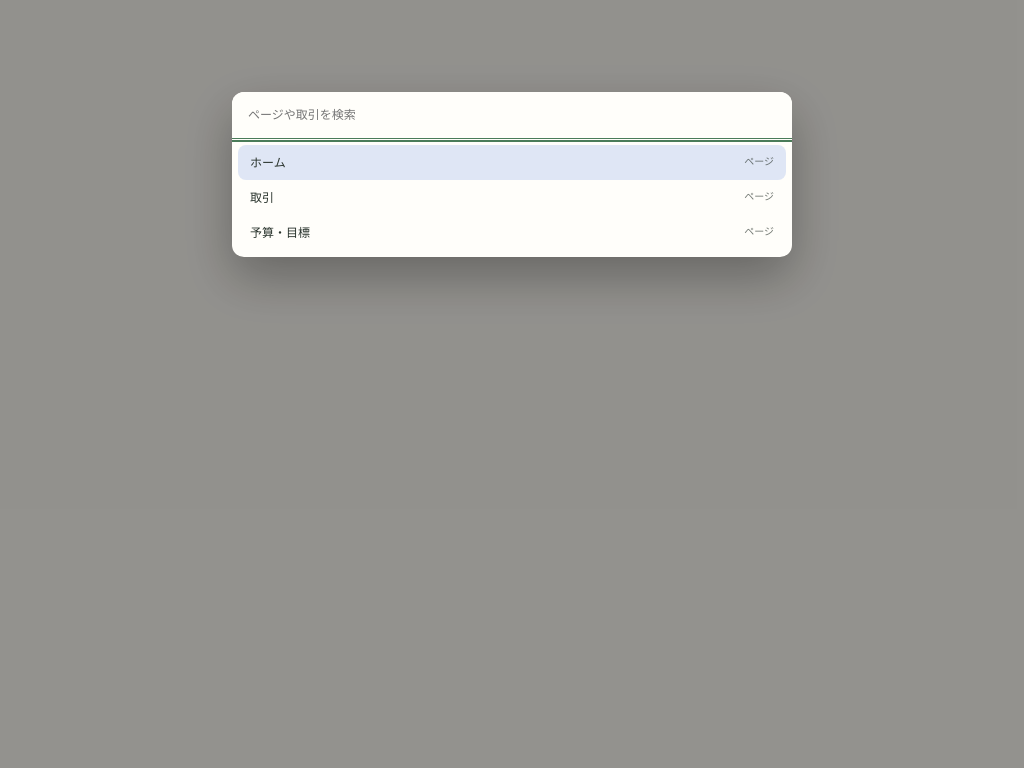
Test: CommandPalette › does not search for a single character and shows an empty message when nothing matches
Type "z" into the dropdown.
click(512, 115); type("z")  # box [232,92,792,139]
Wait 400 ms
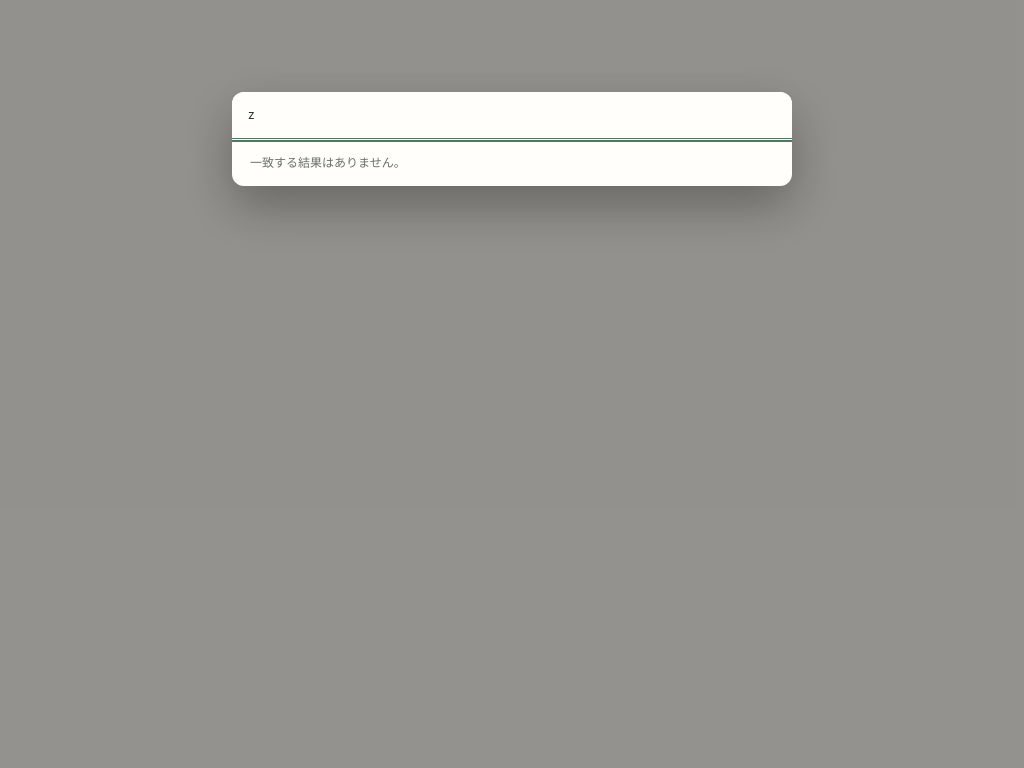
Check: the list item "一致する結果はありません。" is shown, box [250,154,406,170]
